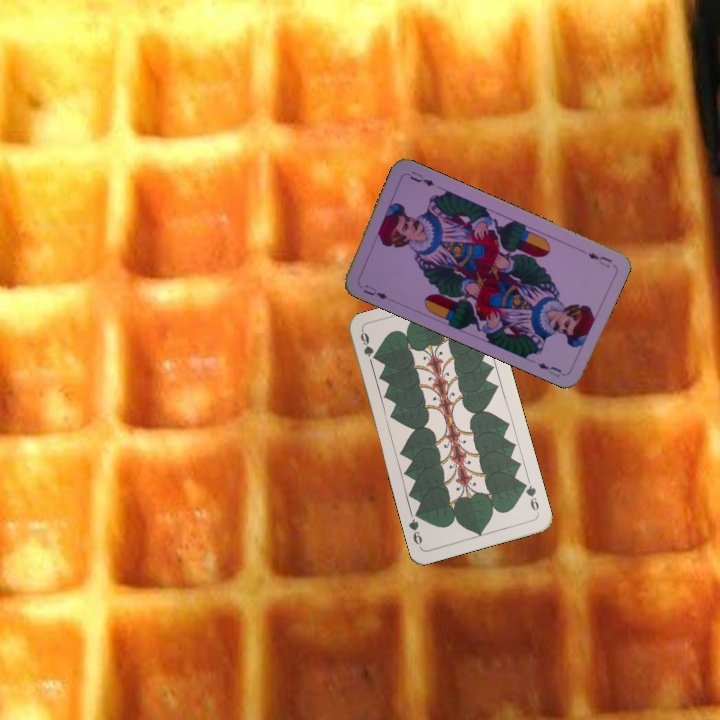EU: (584, 248, 614, 270), (359, 281, 390, 302)
G9: (518, 478, 542, 517), (356, 327, 379, 362)
